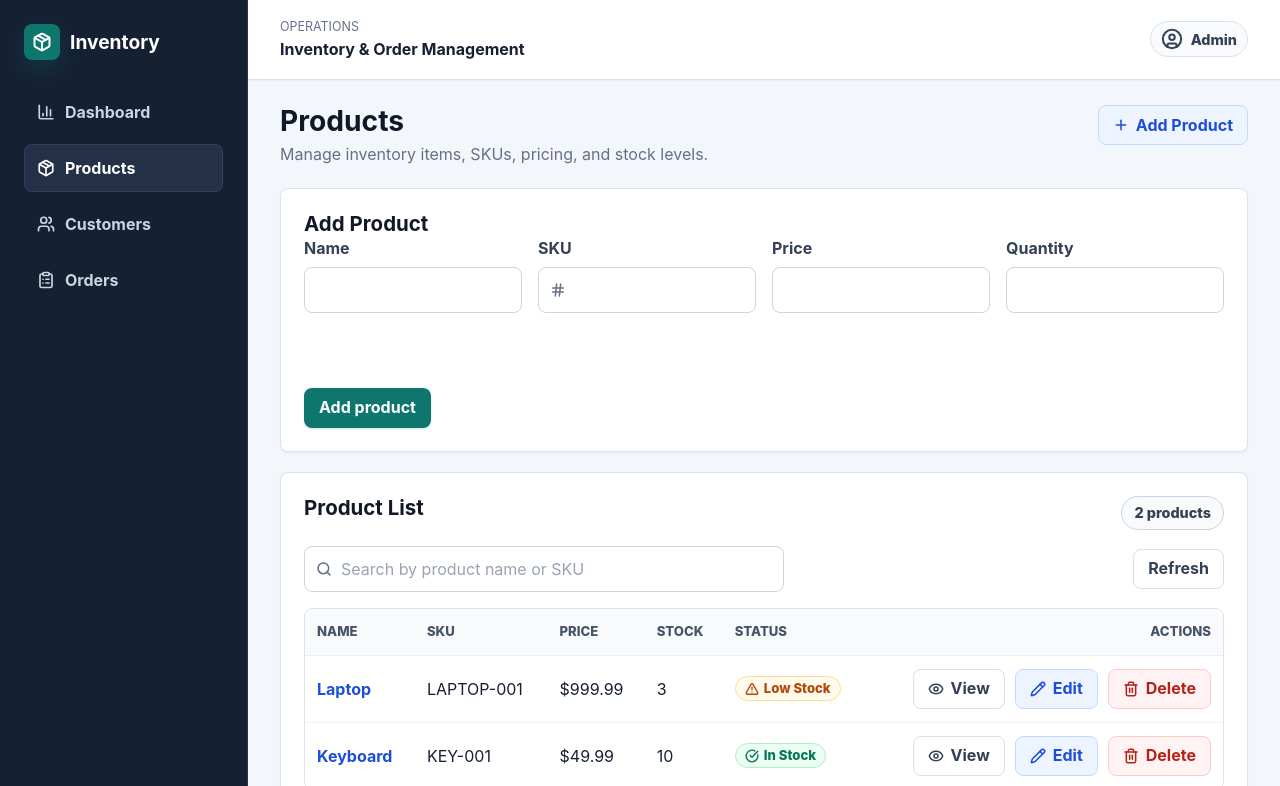
Test: frontend flows › changing an edited product SKU to another product's SKU shows a duplicate warning
Check: the link "Laptop" is shown, box top-left (317, 677), bottom-right (371, 701)
Click the button "Edit" in the row of "LAPTOP-001" at (1056, 689), box top-left (1015, 669), bottom-right (1098, 709)
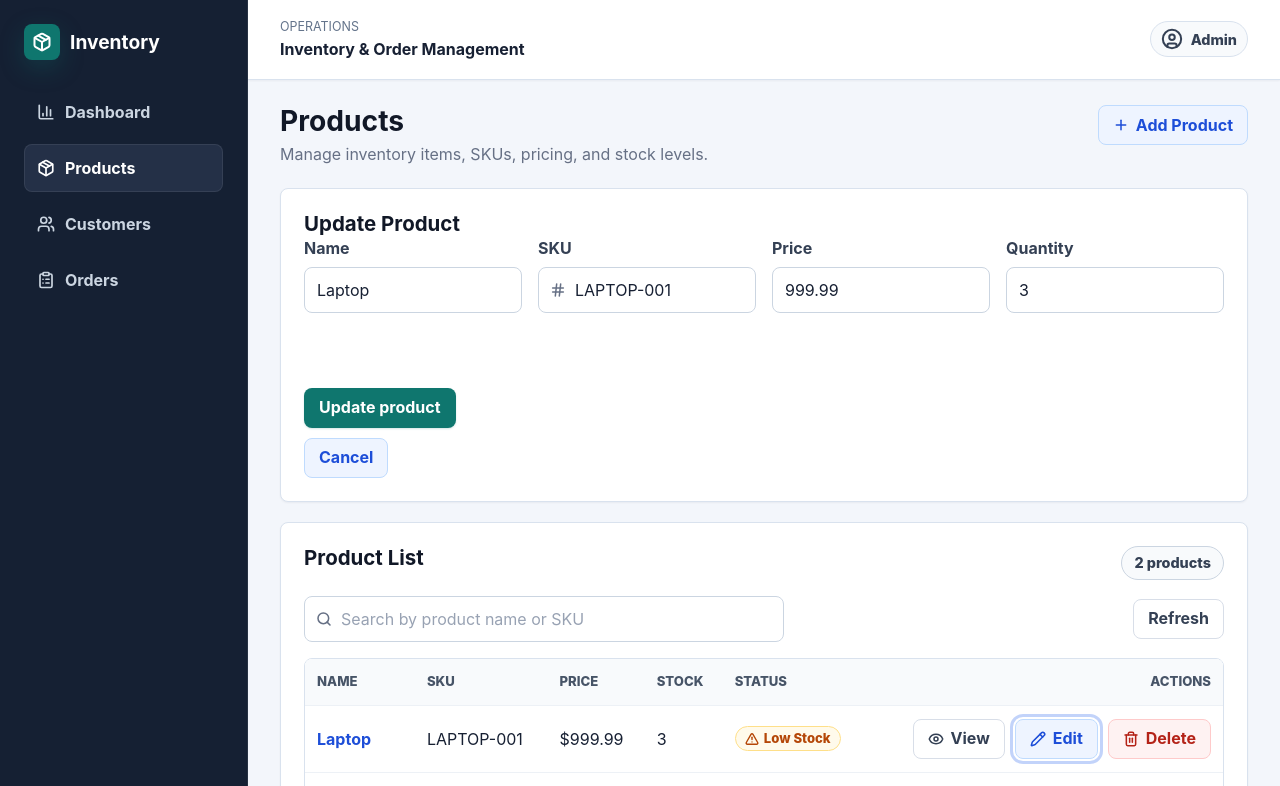
Replace the text in the field labelled "SKU" with "key-001" at (647, 290), box top-left (538, 267), bottom-right (756, 313)
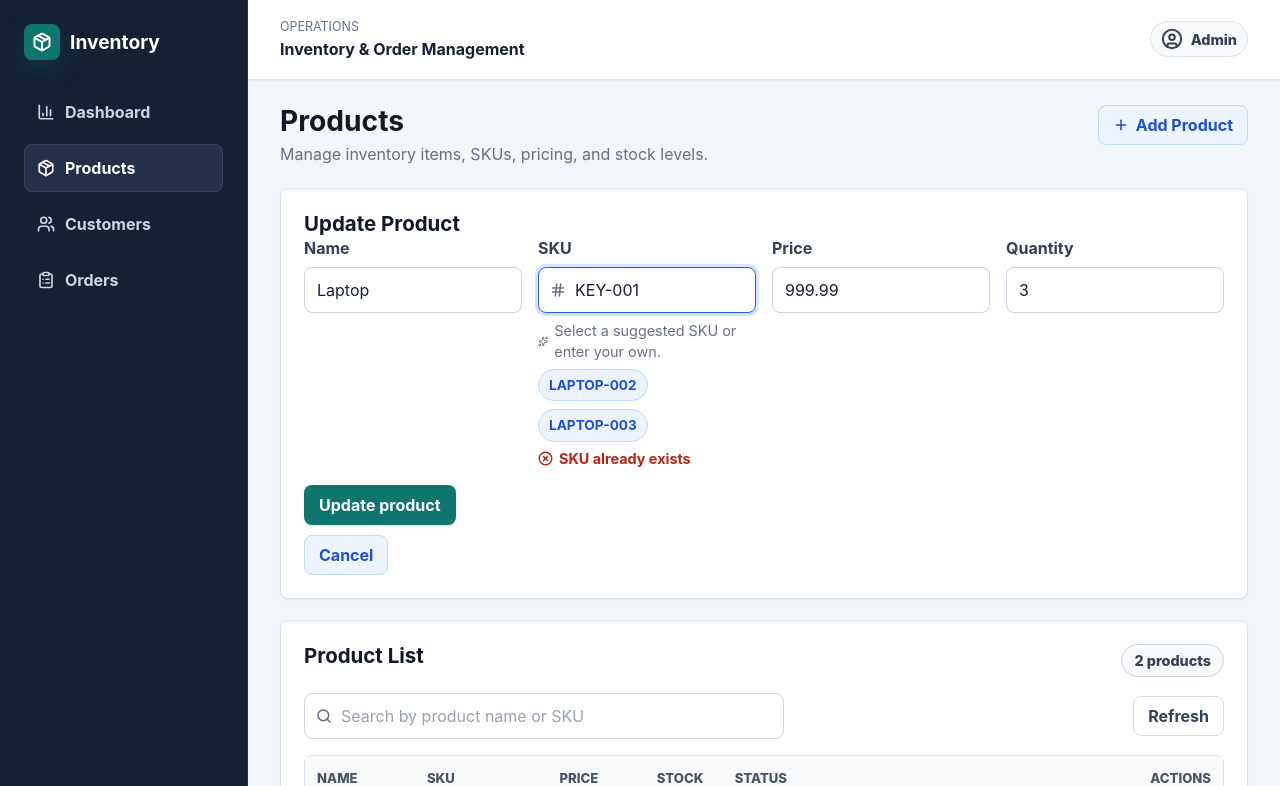
Check: the text "SKU already exists" is shown, box top-left (559, 448), bottom-right (691, 469)
